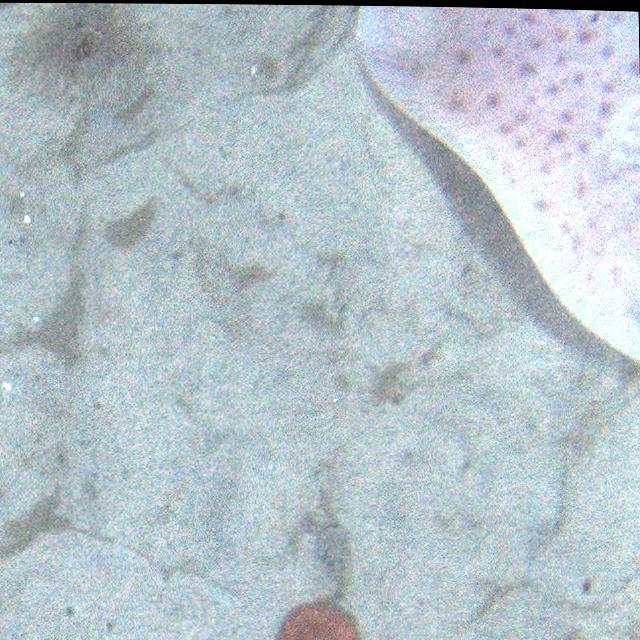skate: (351, 7, 640, 376)
